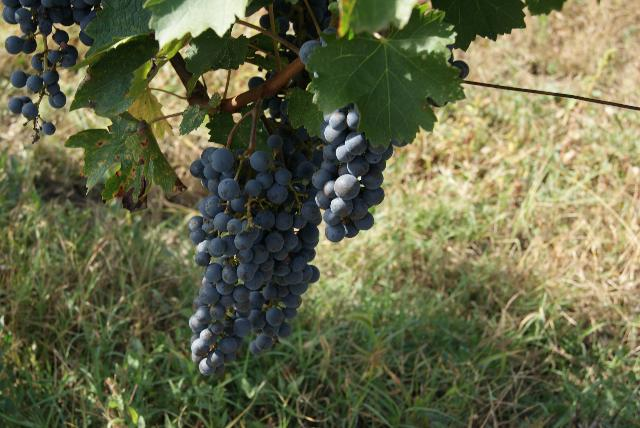grapes: (189, 145, 319, 376), (312, 104, 392, 242)
